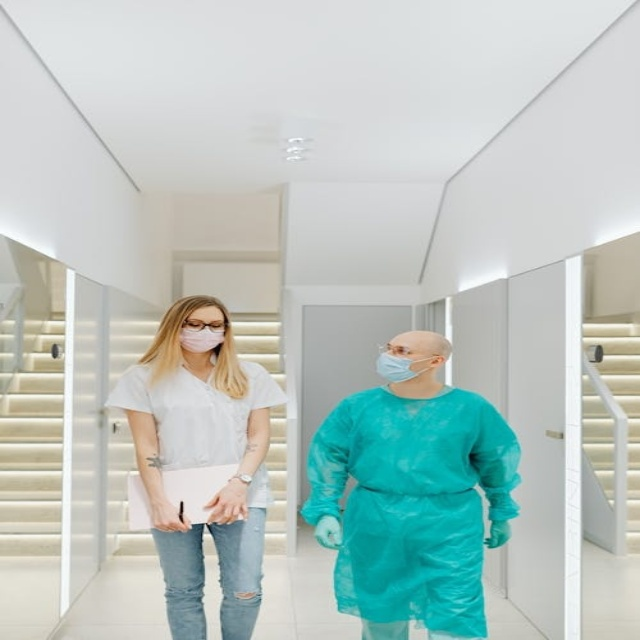Gafas: (380, 343, 442, 359), (181, 320, 228, 333)
Guantes: (314, 514, 344, 550), (484, 519, 512, 550)
Mascara: (375, 350, 436, 382), (178, 327, 226, 353)
Sin_guantes: (202, 484, 250, 525), (149, 499, 192, 533)
